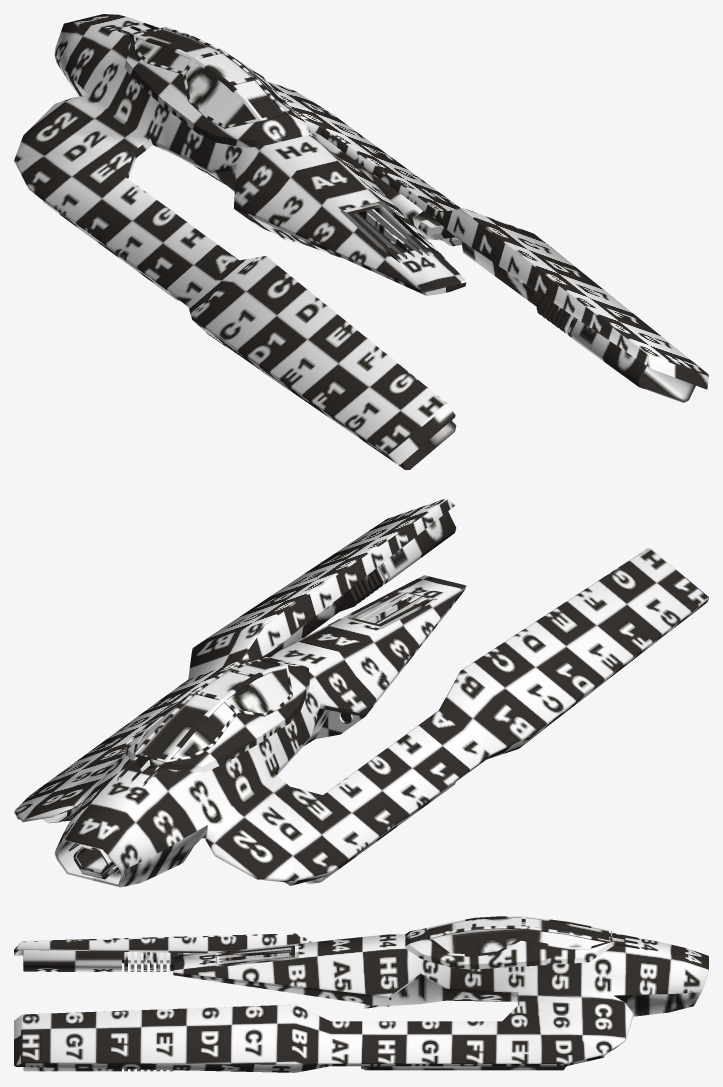
The model's file is Brians_Ship.FBX.
The picture shows the model from 3 angles, top to bottom: view 1: azimuth 30°, elevation 25°; view 2: azimuth 150°, elevation 25°; view 3: azimuth 270°, elevation 25°; orthographic projection. The views are drawn at different scales.
Visible parts, largest first — view 1: Object05; view 2: Object05; view 3: Object05.
Boxes of the visible parts, left/top/right/bottom form: Object05: left=14, top=14, right=708, bottom=469; Object05: left=14, top=498, right=708, bottom=887; Object05: left=14, top=916, right=708, bottom=1072.
Size of the model in its own units: 28.59 by 67.91 by 11.05.
1 material, 1 textured.
